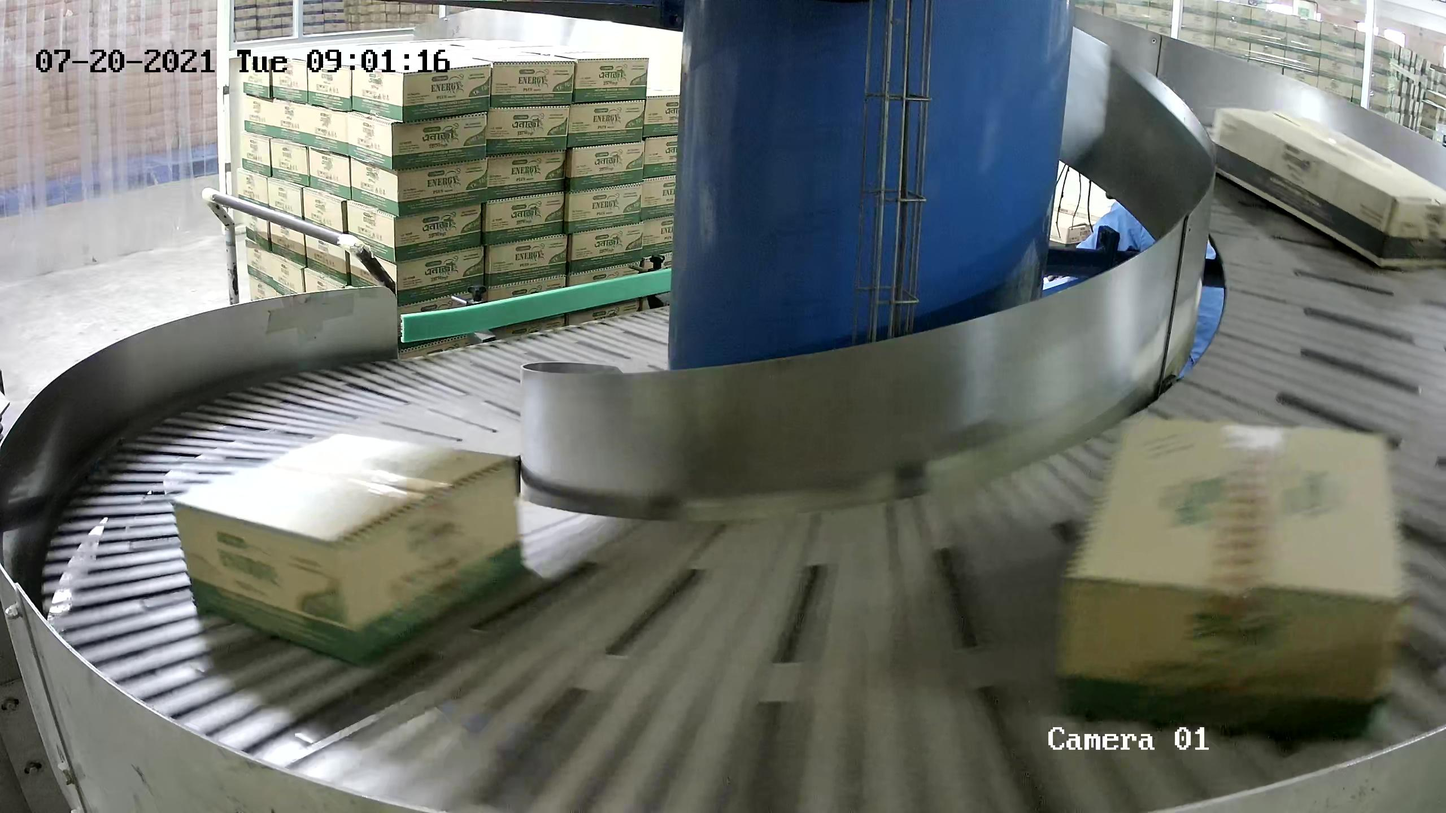Box: (1052, 410, 1408, 753), (168, 428, 525, 669), (1208, 103, 1446, 268)
